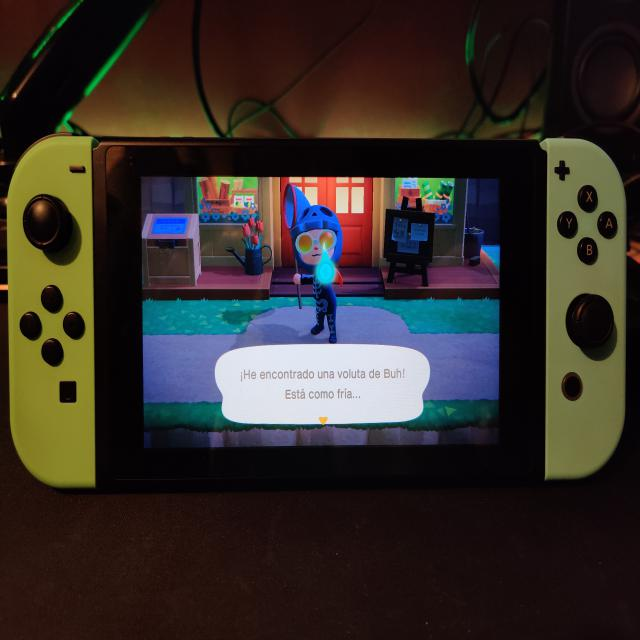text_bubble: (214, 339, 434, 430)
